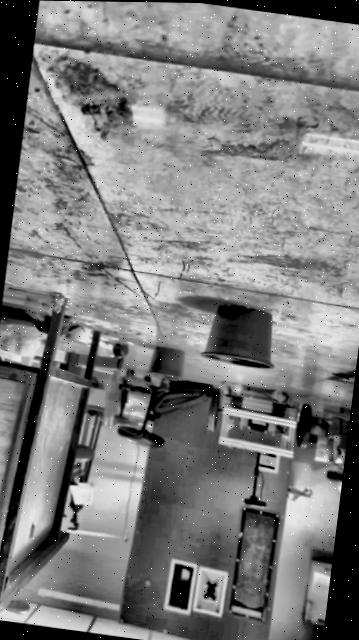pot: (199, 301, 280, 371), (145, 345, 185, 381)
